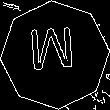M_S: (30, 28, 80, 82)
